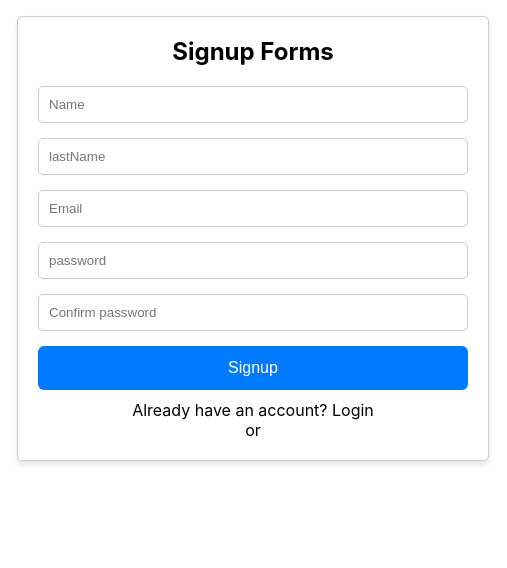
Test: displays validation errors
This screenshot has width=507, height=568.
Click the button "Signup" at point(253, 368), box x1=38 y1=346 x2=468 y2=390
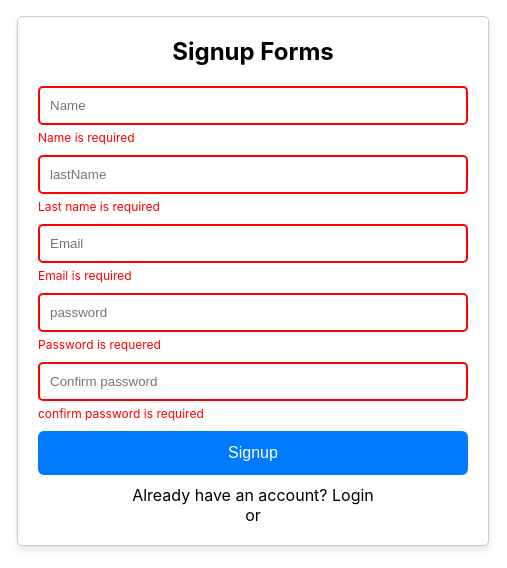
Check: the text "Name is required" is shown, box x1=38 y1=130 x2=135 y2=145
Check: the text "Email is required" is shown, box x1=38 y1=268 x2=132 y2=283
